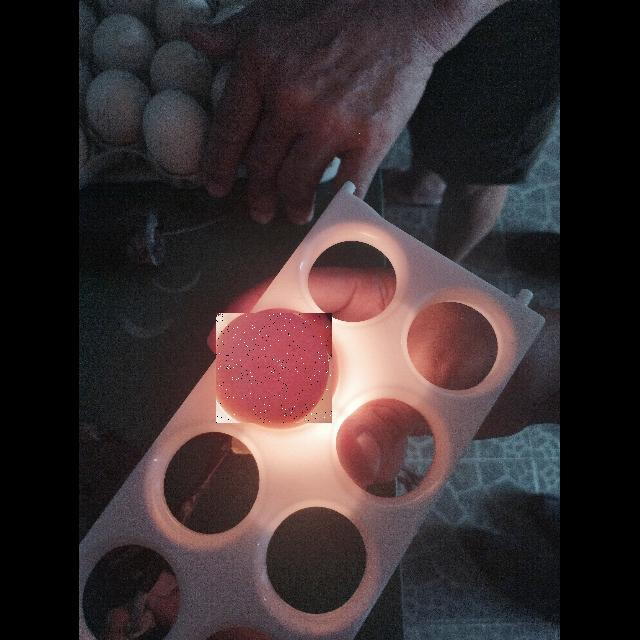Infertile: (216, 313, 332, 423)
